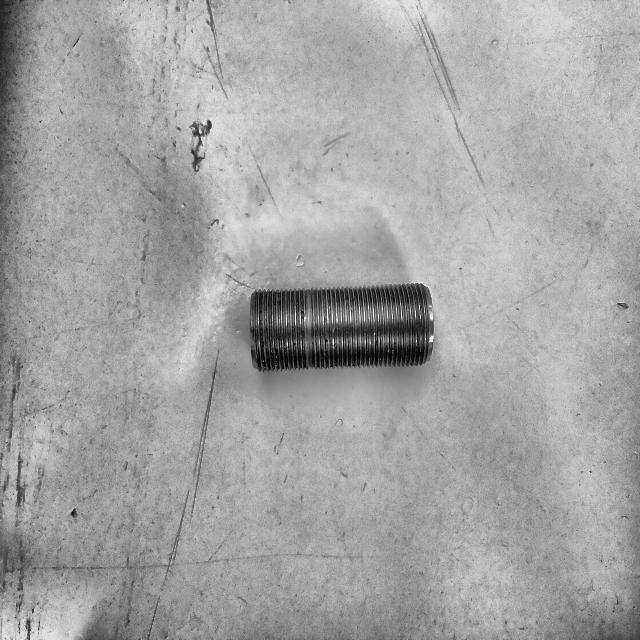Broken: (247, 281, 437, 375)
